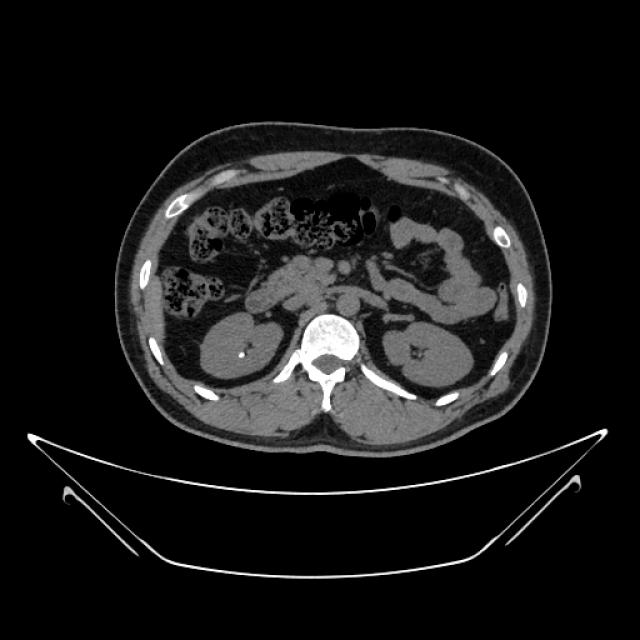kidneystone: (238, 349, 246, 359)
